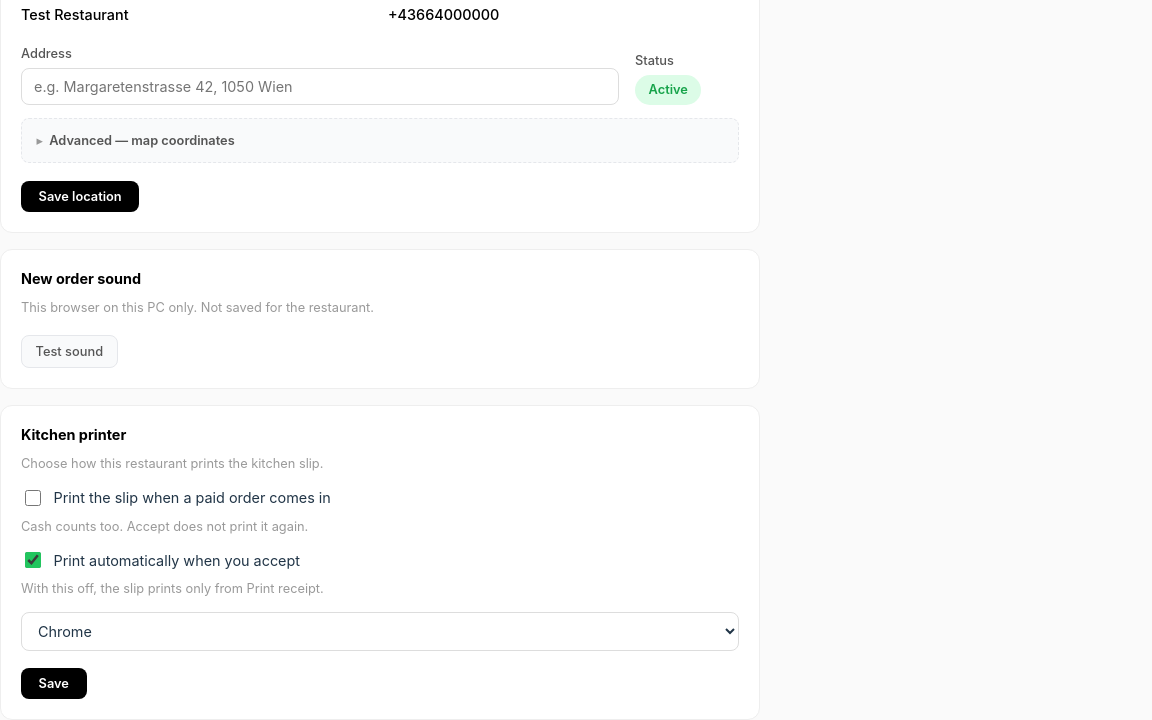
Test: SettingsPage — kitchen printer › shows an error when the kitchen printer save fails
The width and height of the screenshot is (1152, 720).
(page scrolled)
Expected: the heading "Kitchen printer" is shown, [21,426,126,443]
Click the button "Save".
click(54, 684)  # box [21,668,86,699]
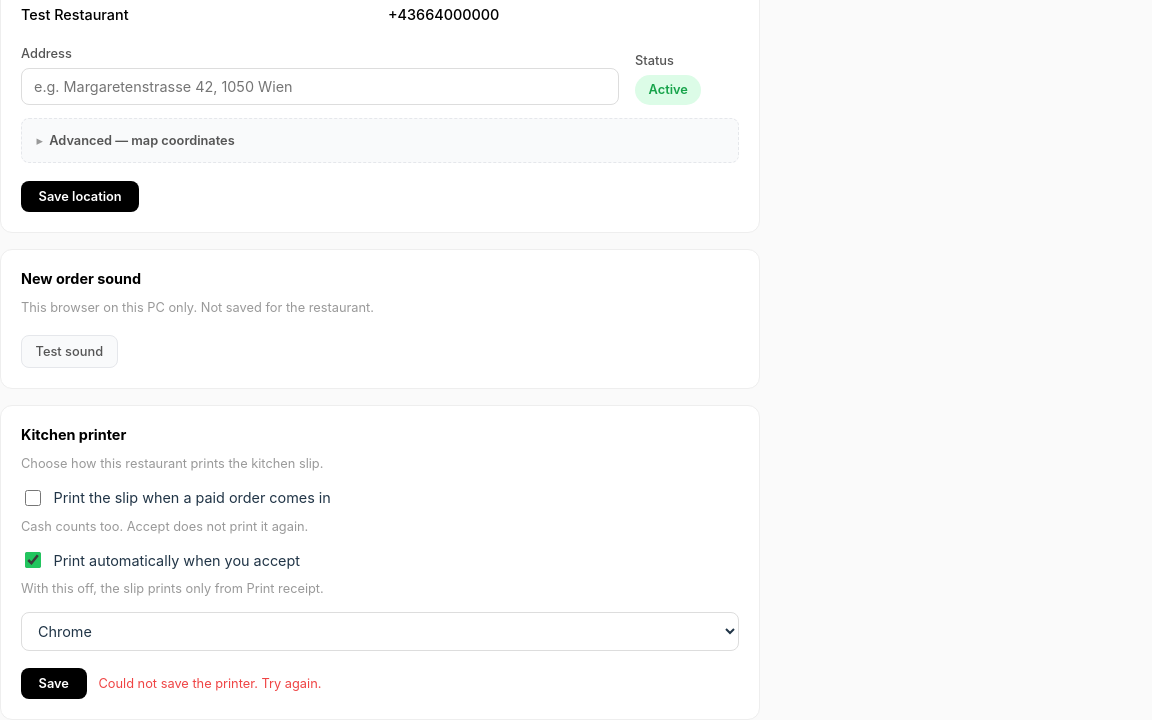
Expected: the text "Could not save the printer. Try again." is shown, [98,674,321,693]
